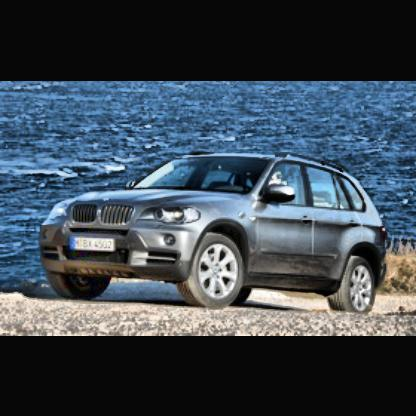BMW X5 SUV 2007: (36, 146, 392, 322)
